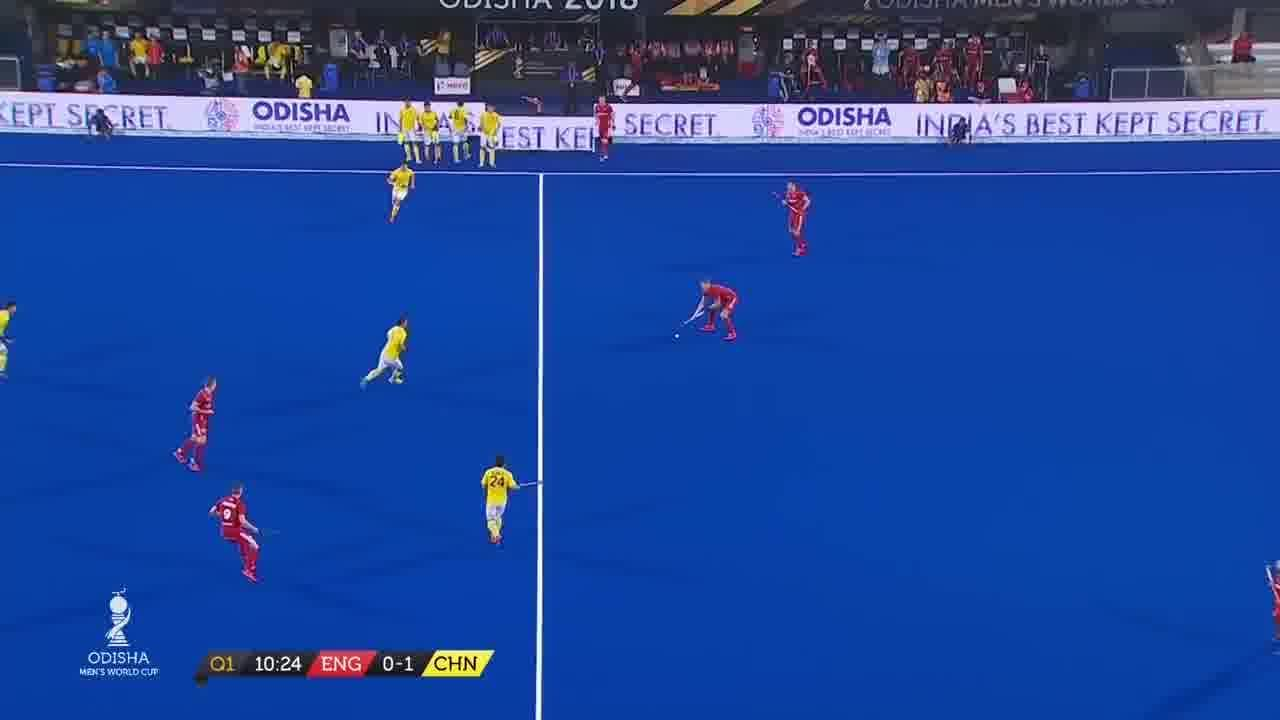ball: (670, 328, 684, 344)
